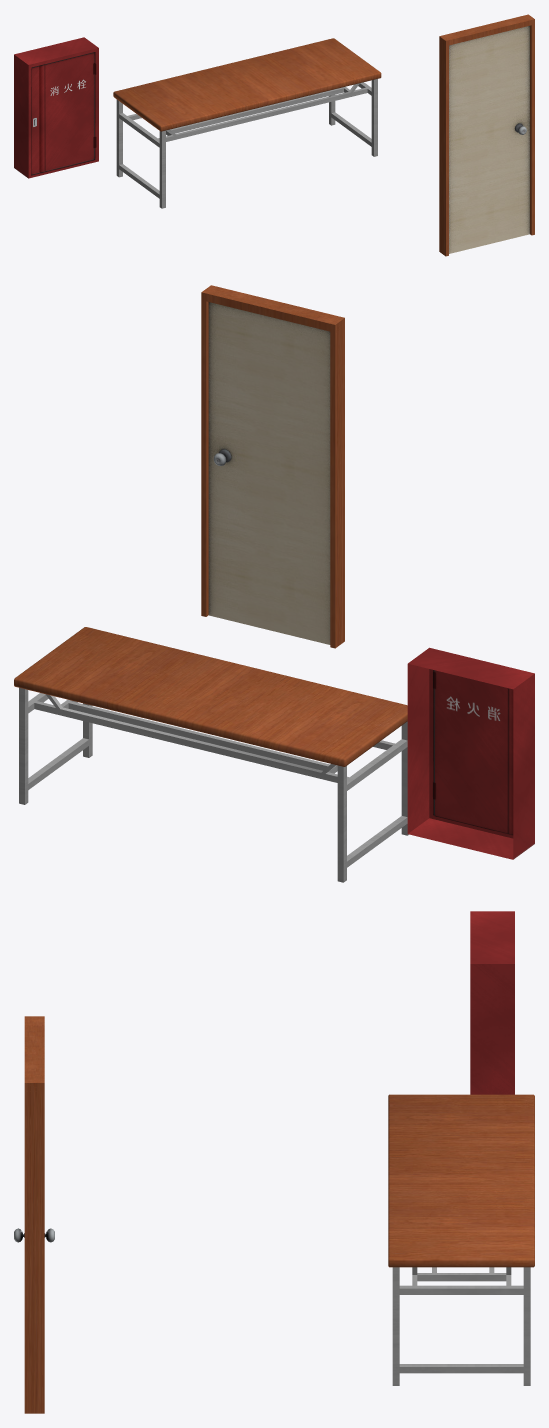
Rendered from prop_sch_canteen_furniture_s.fbx.
3 views of the same model, one above another, from view 1: azimuth 30°, elevation 25°; view 2: azimuth 150°, elevation 25°; view 3: azimuth 270°, elevation 25° (orthographic). The views are drawn at different scales.
Visible parts, largest first — view 1: prop_sch_hall_furniture_1_DoorHandler, prop_sch_hall_furniture_0_FlipTable, prop_sch_fireexc, prop_sch_hall_furniture_1_DoorFrame; view 2: prop_sch_hall_furniture_1_DoorHandler, prop_sch_hall_furniture_0_FlipTable, prop_sch_fireexc, prop_sch_hall_furniture_1_DoorFrame; view 3: prop_sch_hall_furniture_0_FlipTable, prop_sch_hall_furniture_1_DoorFrame, prop_sch_fireexc.
Part boxes in pixels (bbox=[...]): prop_sch_hall_furniture_1_DoorHandler: bbox=[449, 25, 529, 253]; prop_sch_hall_furniture_0_FlipTable: bbox=[113, 38, 381, 208]; prop_sch_fireexc: bbox=[14, 37, 98, 178]; prop_sch_hall_furniture_1_DoorFrame: bbox=[439, 14, 534, 256]; prop_sch_hall_furniture_1_DoorHandler: bbox=[208, 302, 330, 644]; prop_sch_hall_furniture_0_FlipTable: bbox=[14, 627, 408, 882]; prop_sch_fireexc: bbox=[407, 647, 534, 859]; prop_sch_hall_furniture_1_DoorFrame: bbox=[201, 285, 344, 648]; prop_sch_hall_furniture_0_FlipTable: bbox=[388, 1094, 534, 1385]; prop_sch_hall_furniture_1_DoorFrame: bbox=[24, 1016, 44, 1413]; prop_sch_fireexc: bbox=[470, 911, 514, 1094].
Size of the model in its own units: 359 by 205 by 293.
